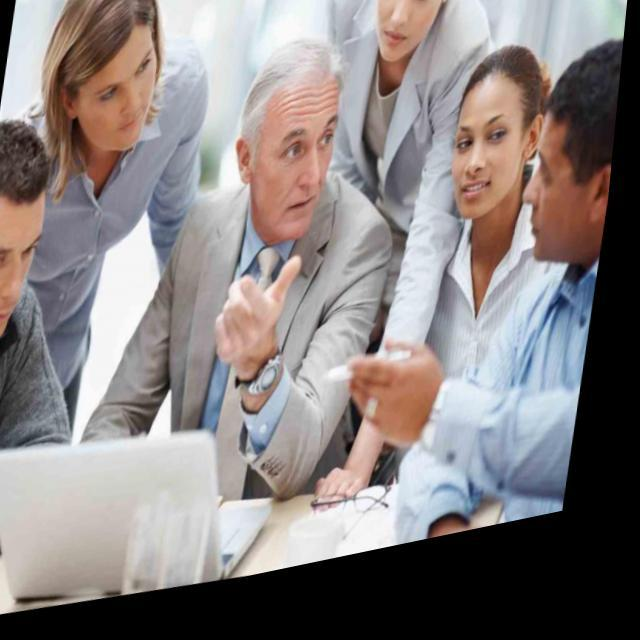Nonhelmet: (232, 36, 348, 241), (37, 0, 169, 162), (441, 41, 548, 232)
